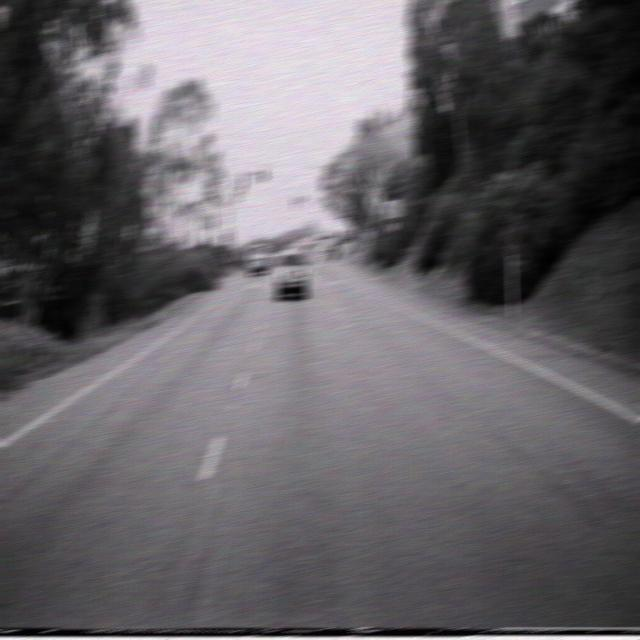pedestrianCrossing: (365, 182, 385, 215)
